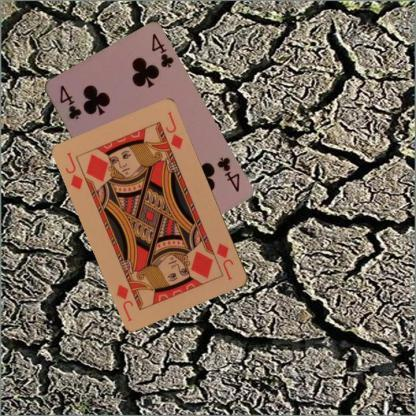4c: (214, 154, 241, 194), (56, 82, 82, 121)
Jd: (63, 150, 90, 192), (214, 240, 236, 282)
